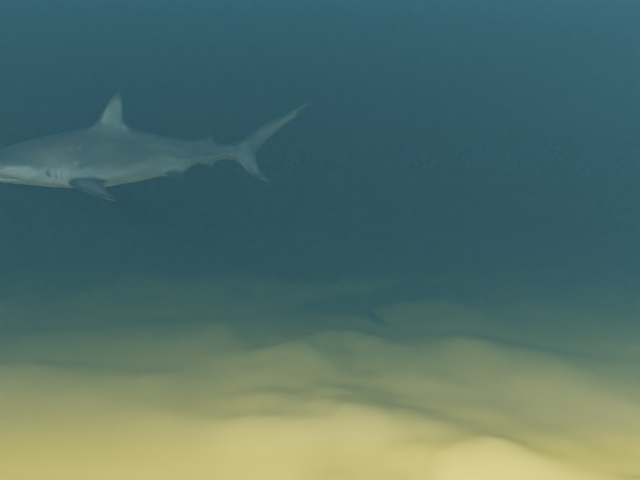Carribean Shark.001: (0, 91, 311, 201)
